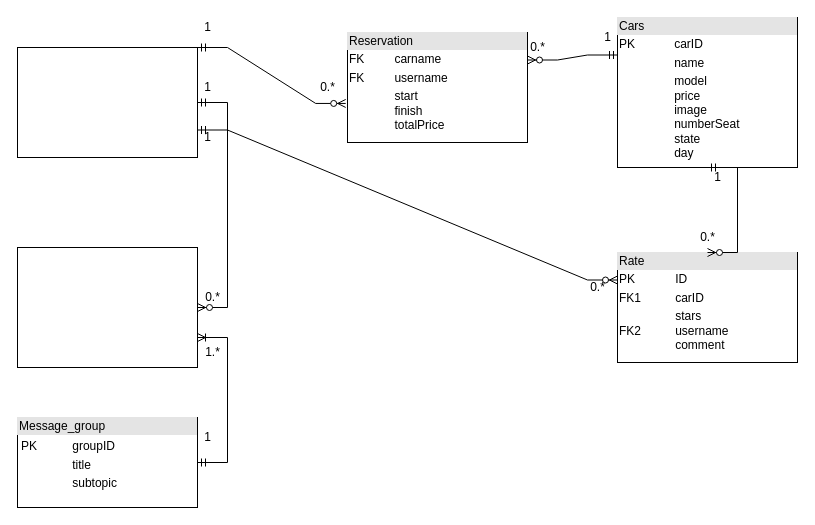
Image size: 815x525. Some labels were removed from this diagram. Here are the shapes that lost their labels. From the top down, the centre of each, then its label:
the point at 107,102: Users PK username name email password statu
the point at 107,307: Message PK messageID FK username FK comment date groupID statu
